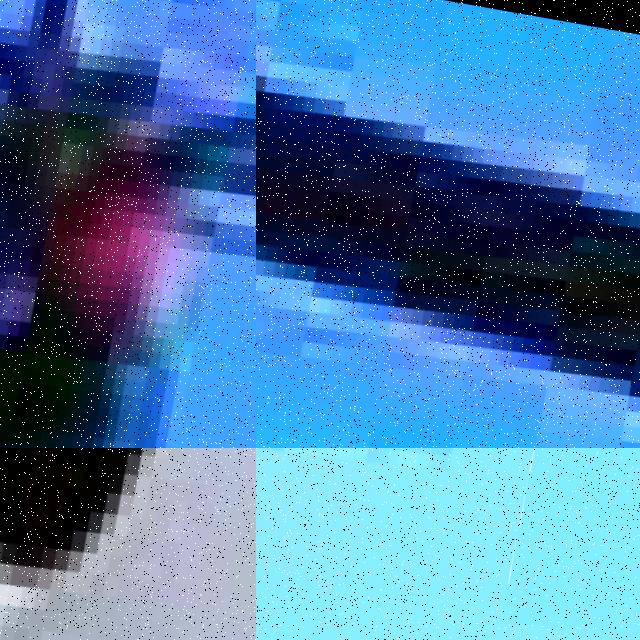drone: (256, 0, 640, 448), (0, 0, 256, 448), (256, 448, 548, 640), (0, 448, 256, 640)
